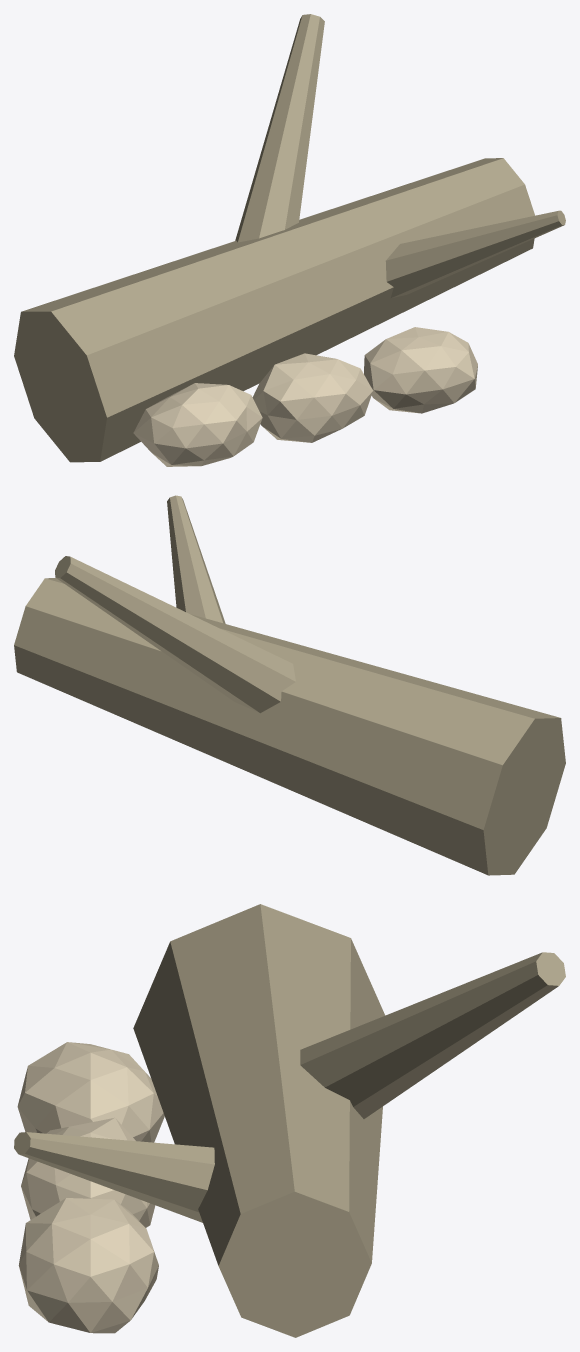
The model's file is bleached_driftwood.glb.
The picture shows the model from 3 angles, top to bottom: view 1: azimuth 30°, elevation 25°; view 2: azimuth 150°, elevation 25°; view 3: azimuth 270°, elevation 25°; orthographic projection. The views are drawn at different scales.
Visible parts, largest first — view 1: MG2 bleached_driftwood MG2 Wood driftwood, MG2 bleached_driftwood MG2 Shell; view 2: MG2 bleached_driftwood MG2 Wood driftwood; view 3: MG2 bleached_driftwood MG2 Wood driftwood, MG2 bleached_driftwood MG2 Shell.
Boxes of the visible parts, left/top/right/bottom form: MG2 bleached_driftwood MG2 Wood driftwood: left=14, top=14, right=565, bottom=462; MG2 bleached_driftwood MG2 Shell: left=133, top=327, right=477, bottom=466; MG2 bleached_driftwood MG2 Wood driftwood: left=14, top=495, right=565, bottom=875; MG2 bleached_driftwood MG2 Wood driftwood: left=14, top=904, right=565, bottom=1337; MG2 bleached_driftwood MG2 Shell: left=17, top=1042, right=164, bottom=1333.
Size of the model in its own units: 0.4755 by 0.2832 by 0.3236.
